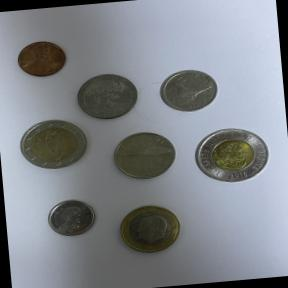coin: (187, 119, 280, 194), (107, 197, 192, 262), (102, 124, 184, 188), (12, 116, 92, 179), (72, 69, 148, 126), (11, 34, 78, 88), (42, 195, 104, 245)
